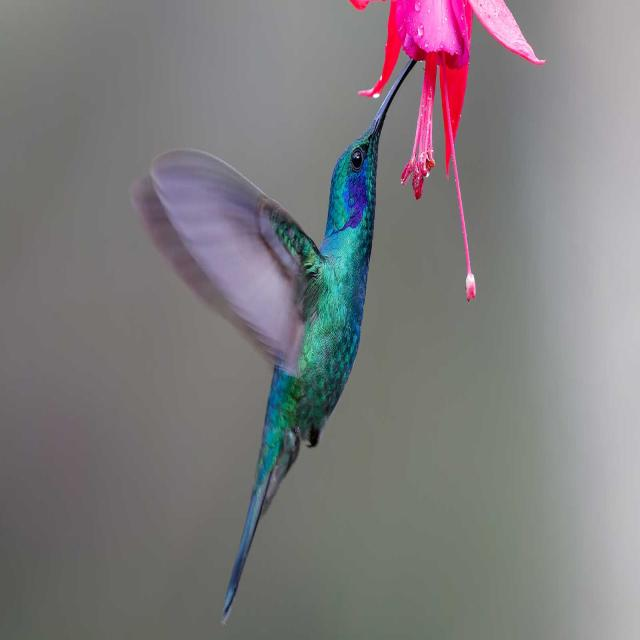Humming Bird: (142, 55, 413, 630)
